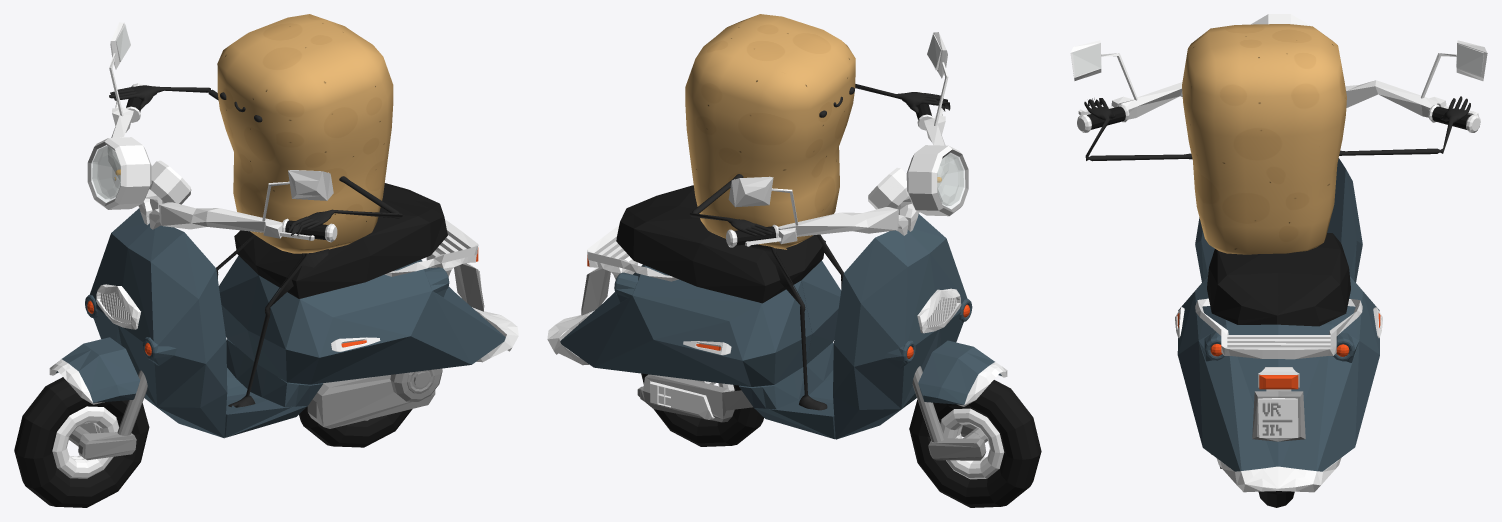
The model's file is potatorider.glb.
3 renders of one model, left to right at view 1: azimuth 30°, elevation 25°; view 2: azimuth 150°, elevation 25°; view 3: azimuth 270°, elevation 25°, orthographic. The views are drawn at different scales.
Parts seen in each view (by area): view 1: Node, _100Avatars_188_CoolPotato; view 2: Node, _100Avatars_188_CoolPotato; view 3: Node, _100Avatars_188_CoolPotato.
Boxes of the visible parts, x1=… form: Node: x1=14, y1=22, x2=518, y2=507; _100Avatars_188_CoolPotato: x1=109, y1=14, x2=402, y2=407; Node: x1=547, y1=32, x2=1041, y2=507; _100Avatars_188_CoolPotato: x1=685, y1=14, x2=950, y2=410; Node: x1=1070, y1=14, x2=1487, y2=507; _100Avatars_188_CoolPotato: x1=1084, y1=24, x2=1470, y2=254.
Size of the model in its own units: 4.86 by 4.03 by 3.52.
12 materials, 1 textured.
